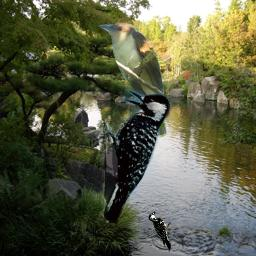Cuckoo: (96, 21, 169, 142)
Woodpecker: (94, 88, 174, 223), (148, 210, 171, 252)
